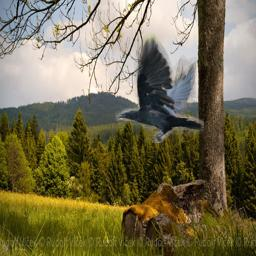Crow: (115, 33, 204, 143)
